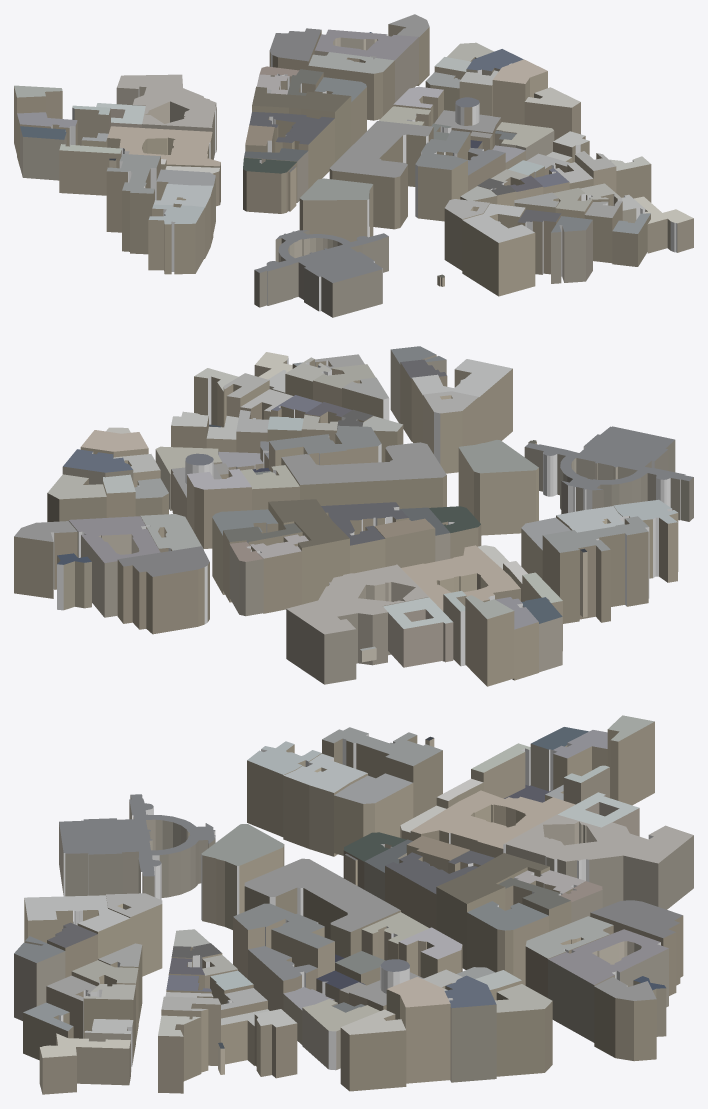
3 renders of one model, top to bottom at view 1: azimuth 30°, elevation 25°; view 2: azimuth 150°, elevation 25°; view 3: azimuth 270°, elevation 25°, orthographic. The views are drawn at different scales.
Parts seen in each view (by area): view 1: tuile; view 2: tuile; view 3: tuile.
Boxes of the visible parts, x1,y1,x2,y2 form: tuile: (14, 14, 693, 317); tuile: (14, 346, 693, 686); tuile: (14, 715, 693, 1094).
Size of the model in its own units: 266 by 47.49 by 267.
